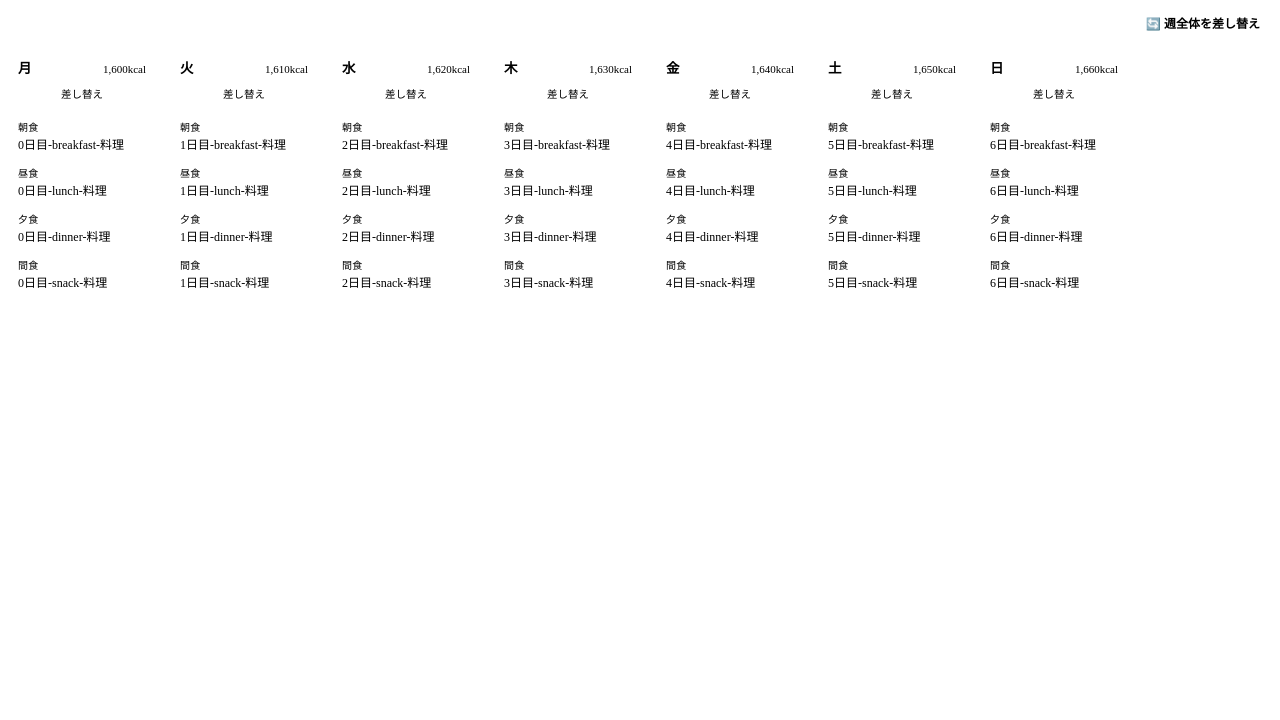
Test case: WeeklyMenuSection › recipe detail modal (Requirement 6.1, 6.4) › clicking the modal's backdrop also closes it (Requirement 6.4)
This screenshot has width=1280, height=720.
Click the button with class "dish" showing "0日目-breakfast-料理" at (71, 144), box [18,135,124,153]
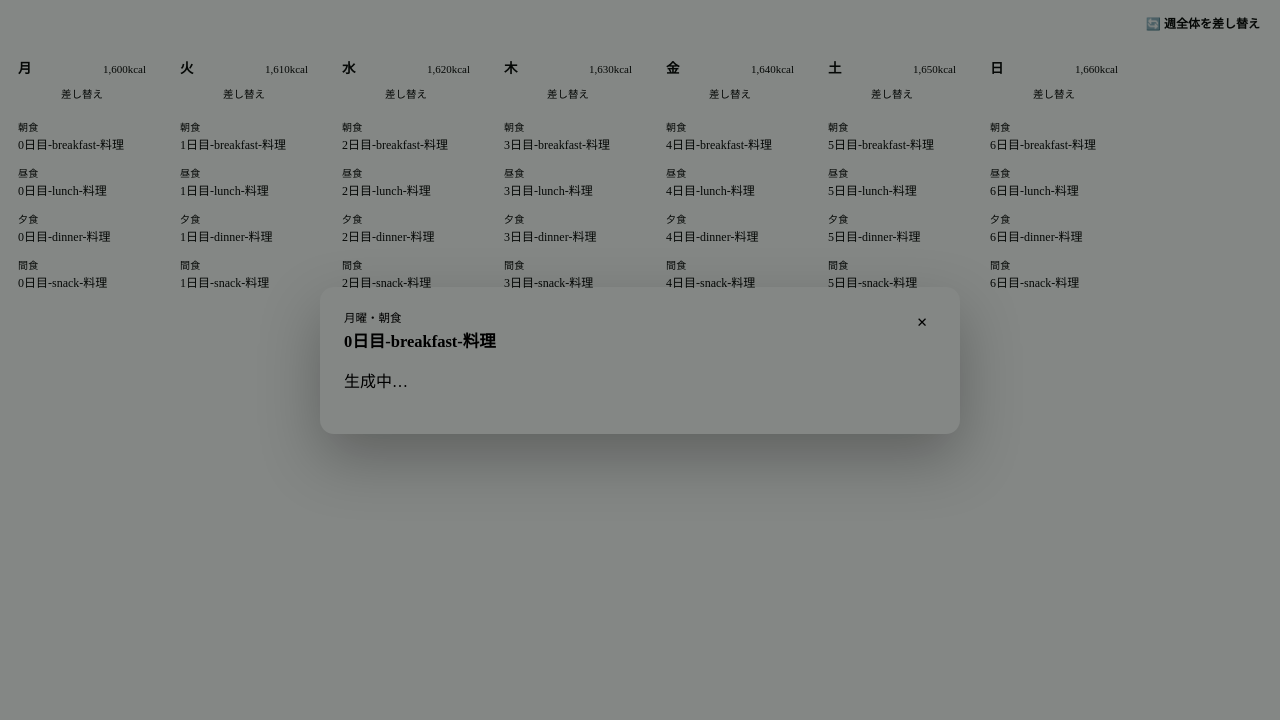
Expected: the dialog named "レシピ詳細" is shown, [320,286,960,434]
Click the button with class "modal-backdrop" at (77, 360), box [0,0,1279,719]
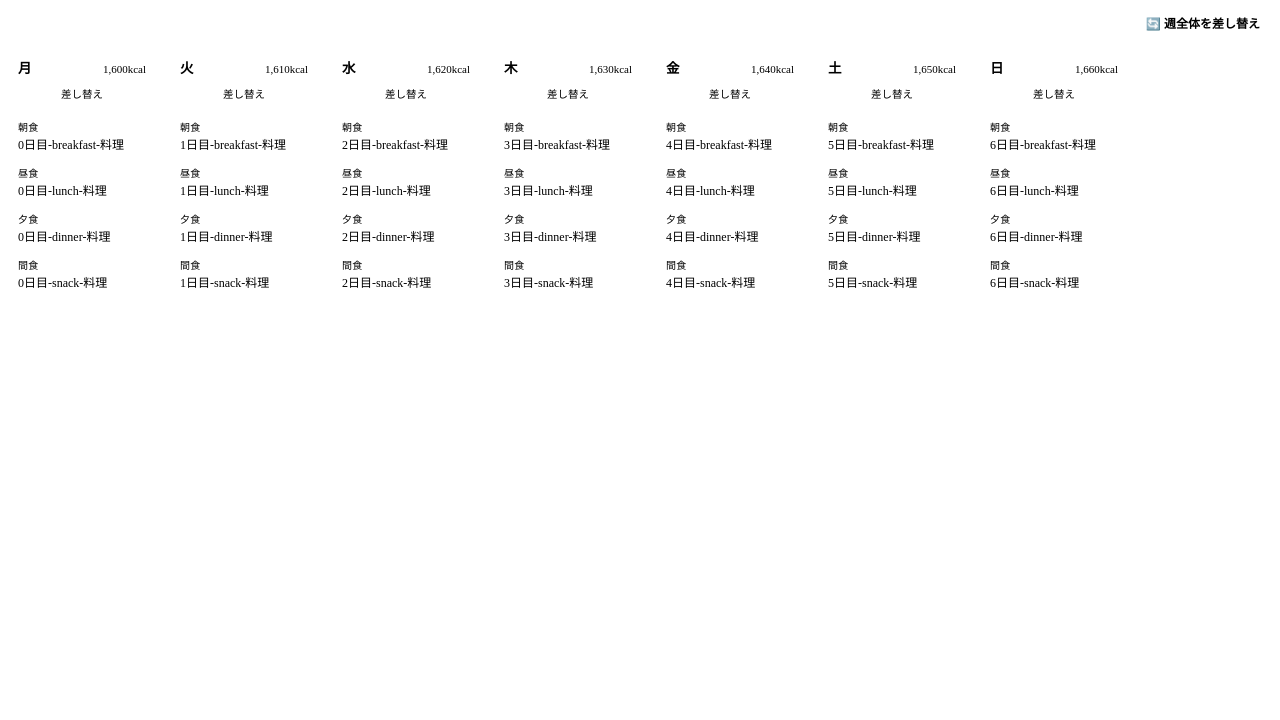
Expected: the dialog is gone
